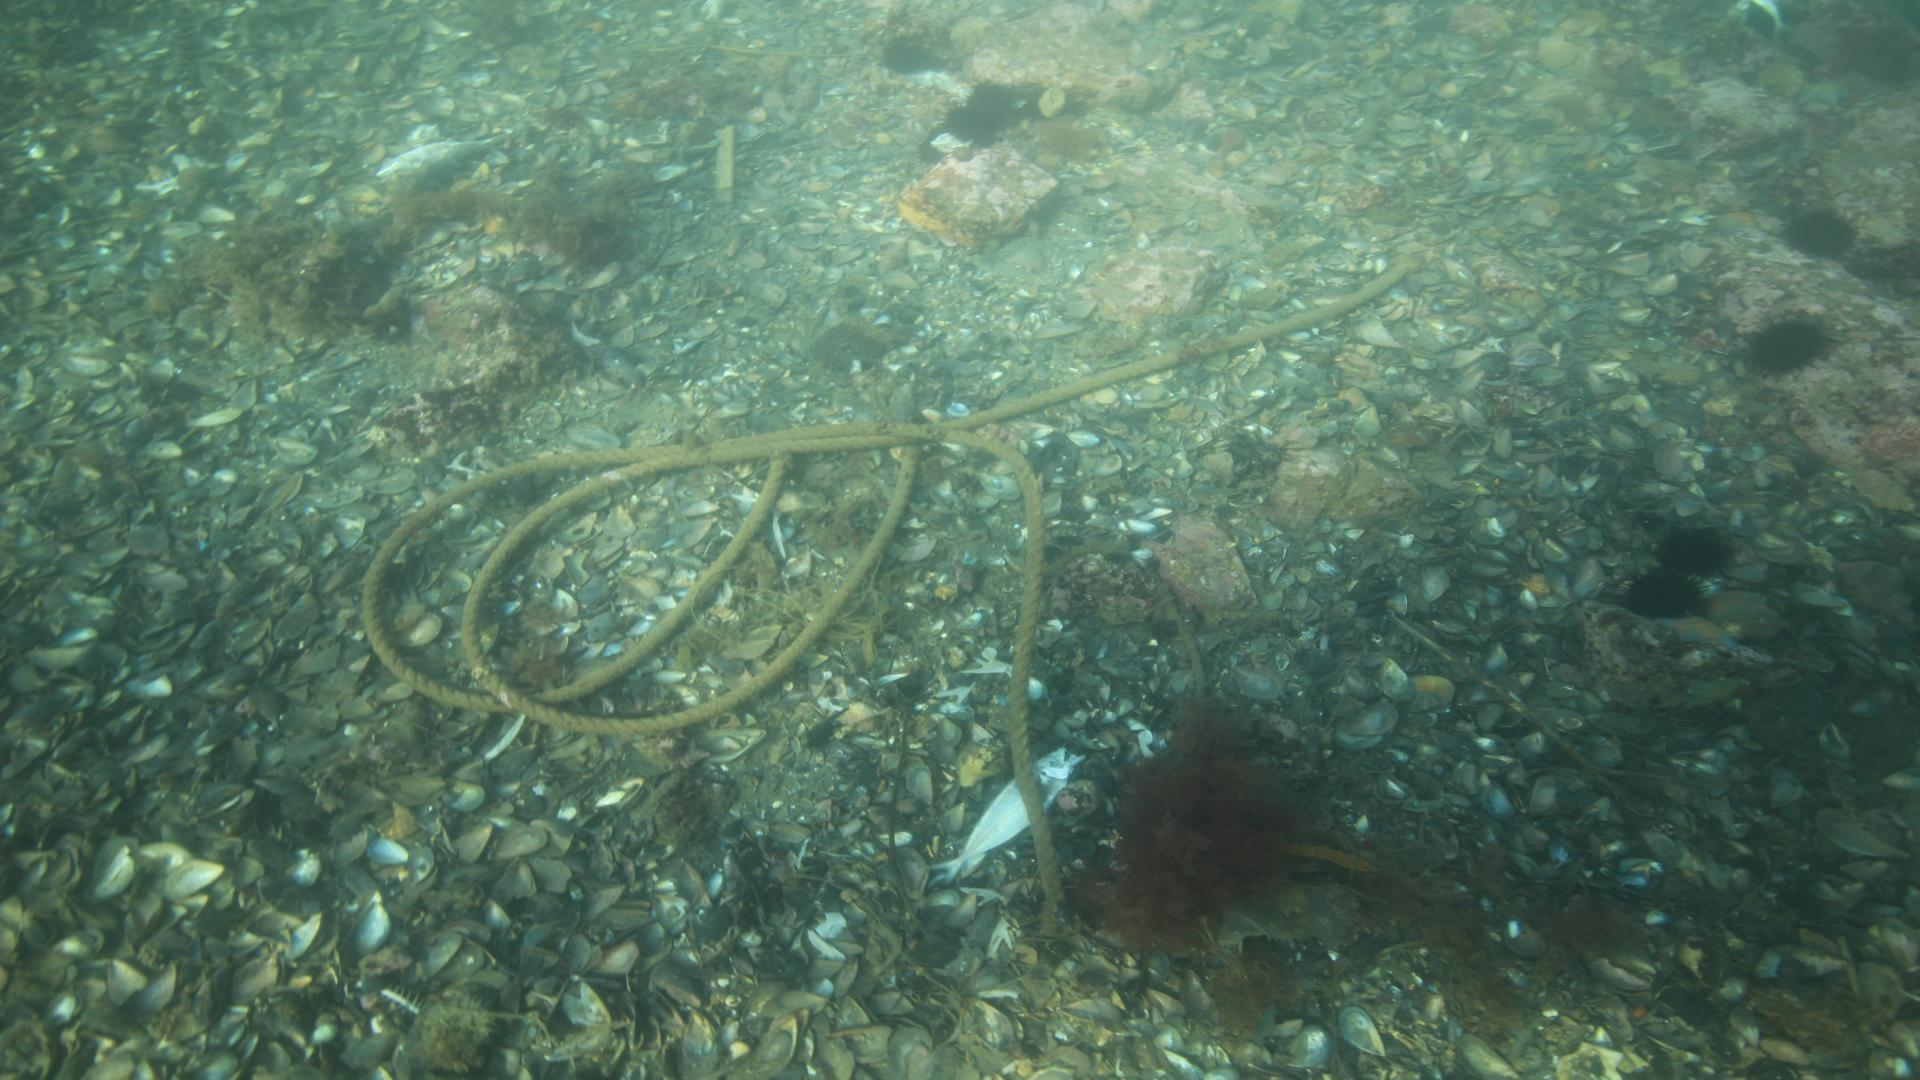bundle of ropes: (352, 248, 1435, 913)
